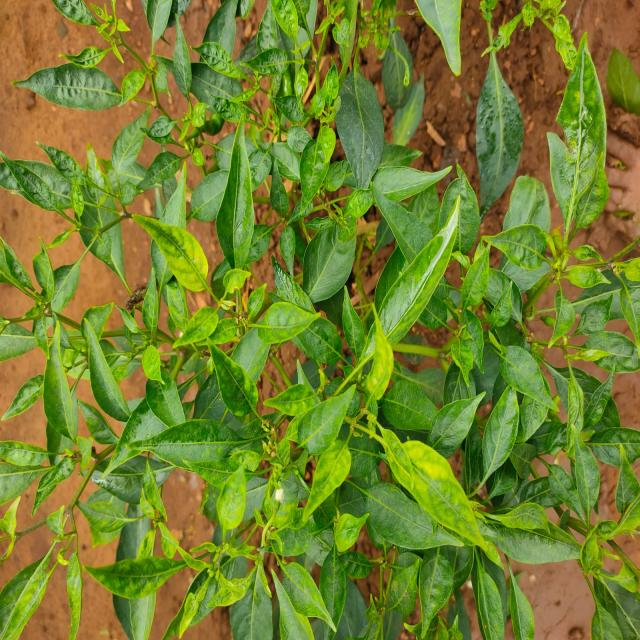Moko: (56, 107, 282, 377), (92, 405, 305, 623), (305, 306, 472, 580), (504, 152, 640, 339), (0, 212, 104, 453), (105, 4, 244, 177), (0, 411, 101, 637), (536, 450, 640, 636), (193, 0, 329, 120), (452, 0, 583, 106), (324, 0, 417, 126), (20, 122, 106, 248), (60, 0, 140, 83)
